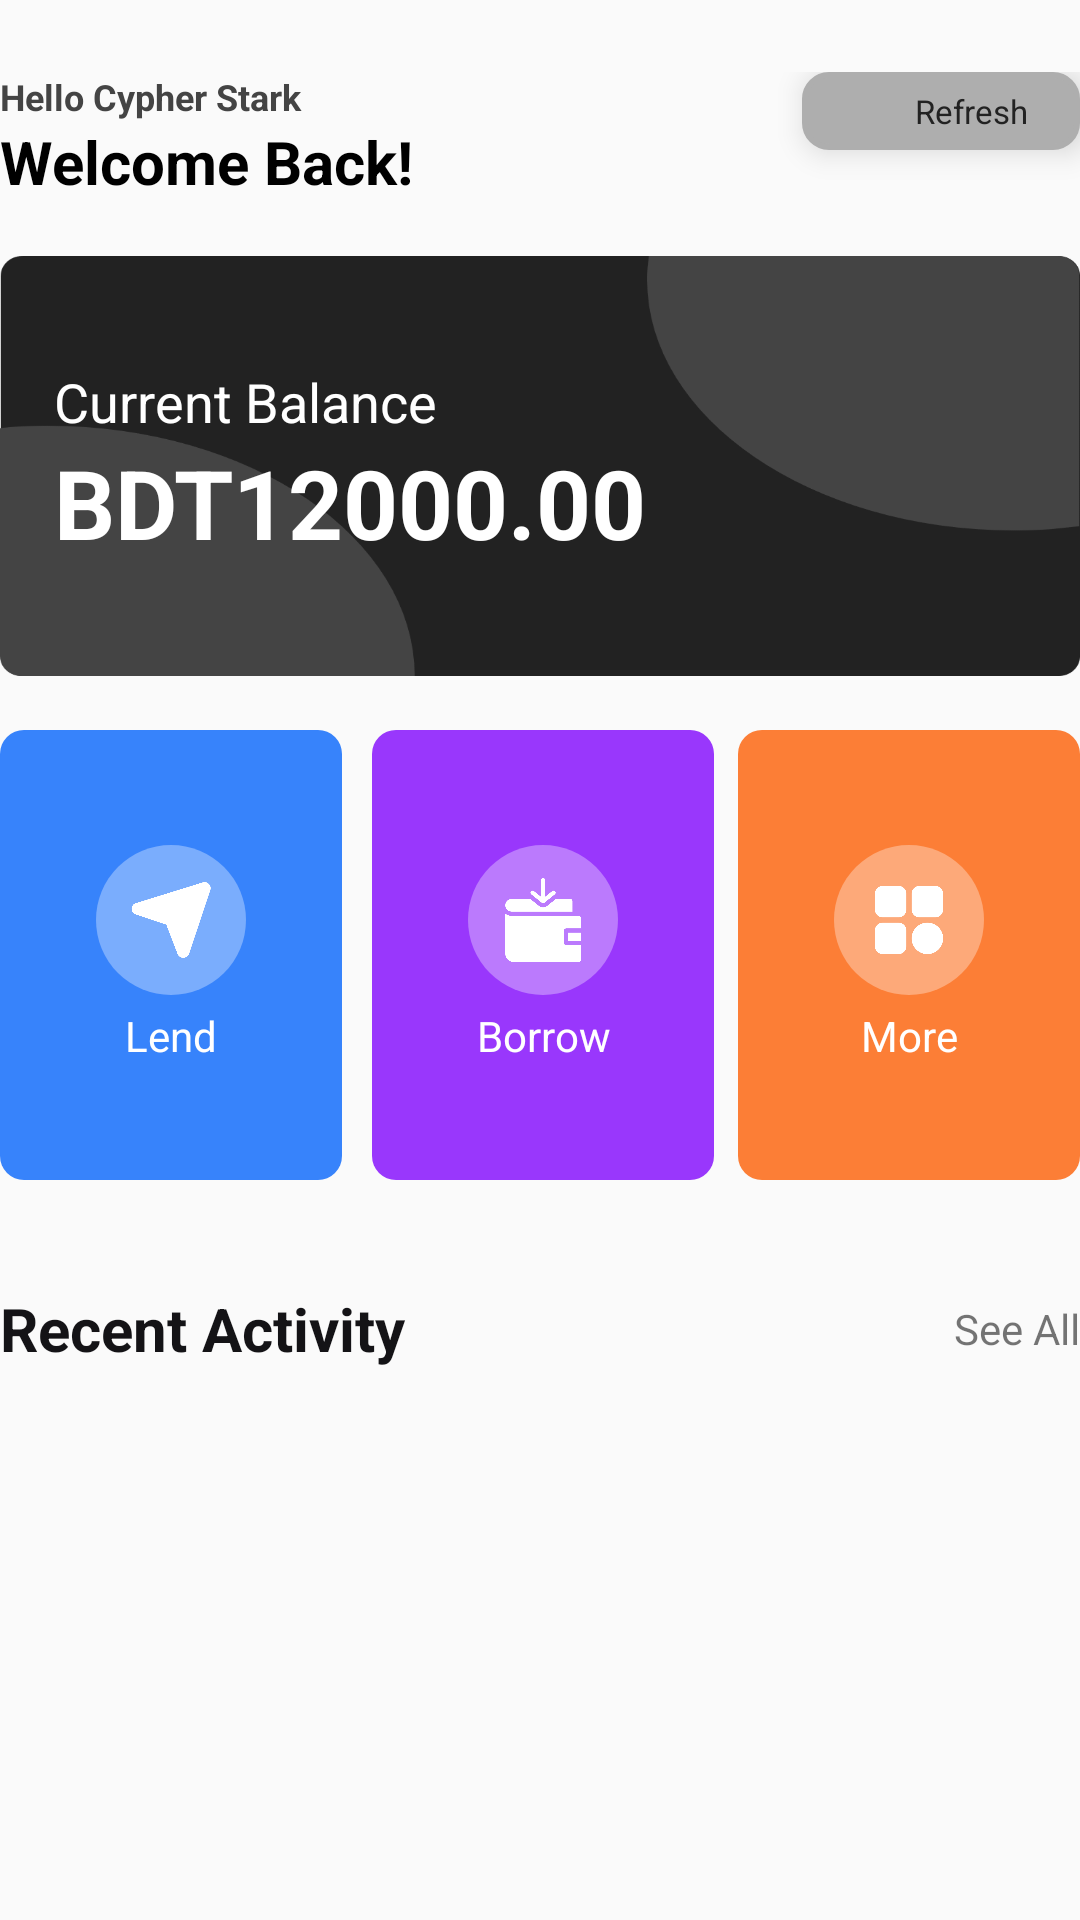

Locate icon controls on the screen. Image size 1080*1920, boxes as (x1, y1, x2, y2).
receive: (505, 878, 581, 962)
send: (132, 882, 211, 958)
